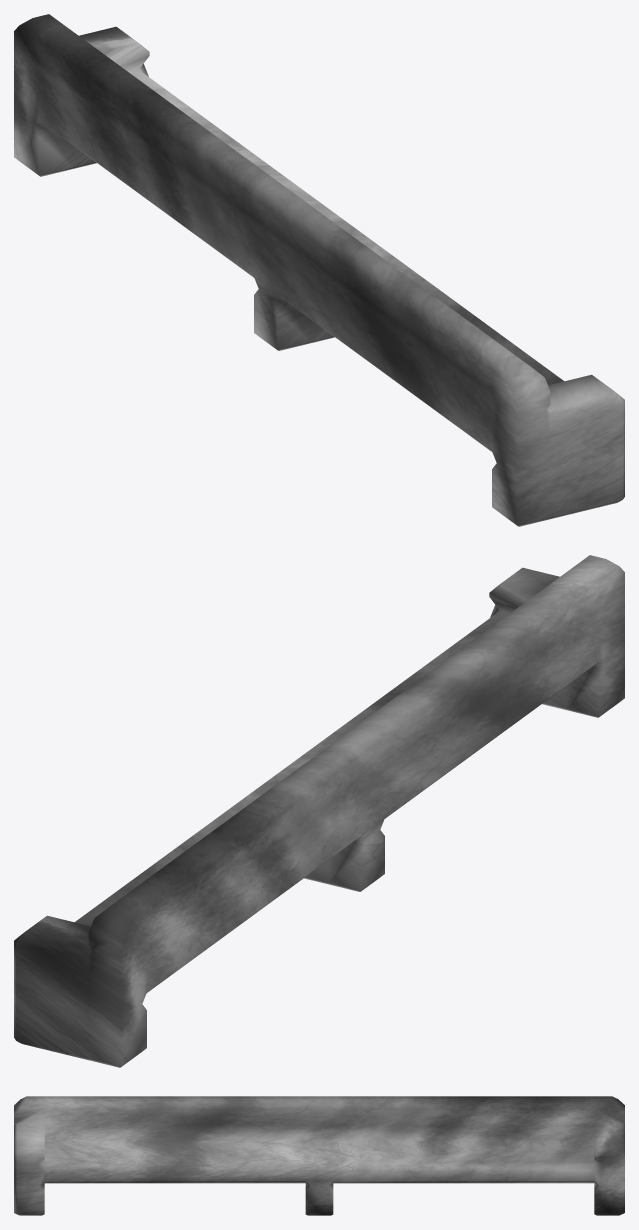
The model's file is MOD_L1_Pew.fbx.
3 views of the same model, one above another, from view 1: azimuth 30°, elevation 25°; view 2: azimuth 150°, elevation 25°; view 3: azimuth 270°, elevation 25° (orthographic). The views are drawn at different scales.
Parts seen in each view (by area): view 1: Cube.006; view 2: Cube.006; view 3: Cube.006.
Part boxes in pixels (bbox=[...]): Cube.006: bbox=[14, 14, 624, 526]; Cube.006: bbox=[14, 555, 624, 1067]; Cube.006: bbox=[14, 1096, 624, 1215].
Bounding box in the file's own units: 6.4 × 8.22 × 50.56.
